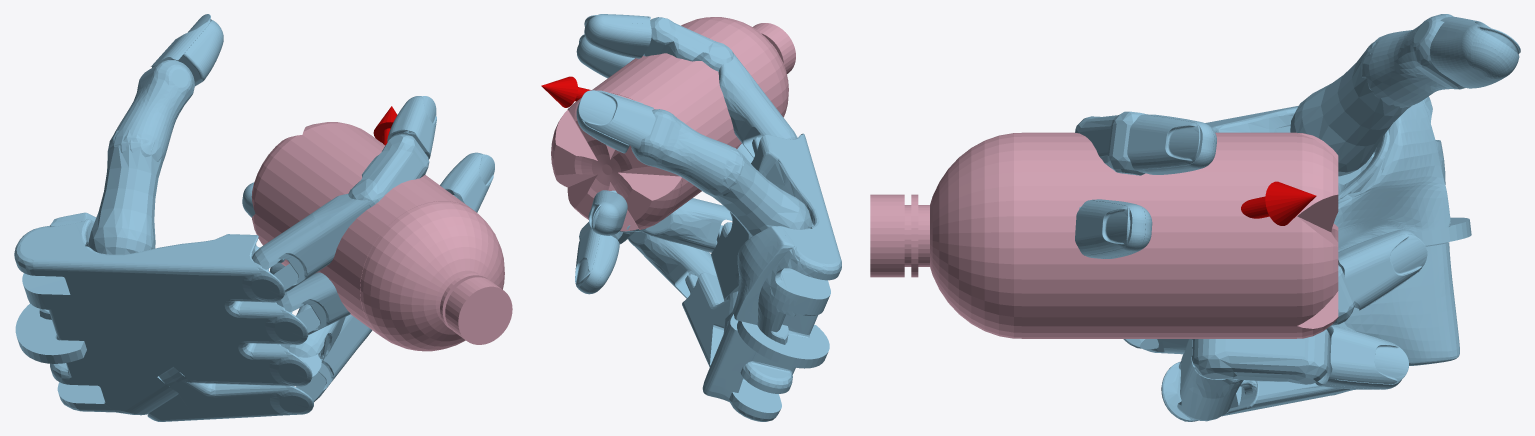
3 renders of one model, left to right at view 1: azimuth 30°, elevation 25°; view 2: azimuth 150°, elevation 25°; view 3: azimuth 270°, elevation 25°, orthographic. The views are drawn at different scales.
Visible parts, largest first — view 1: world, water_bottle.stl; view 2: world, water_bottle.stl; view 3: water_bottle.stl, world.
Part boxes in pixels (<box>): world: <box>14,14,494,421</box>; water_bottle.stl: <box>251,122,512,351</box>; world: <box>541,14,841,421</box>; water_bottle.stl: <box>551,17,795,231</box>; water_bottle.stl: <box>870,132,1338,338</box>; world: <box>1075,14,1520,421</box>.
Bounding box in the file's own units: 0.1672 × 0.1413 × 0.1897.
